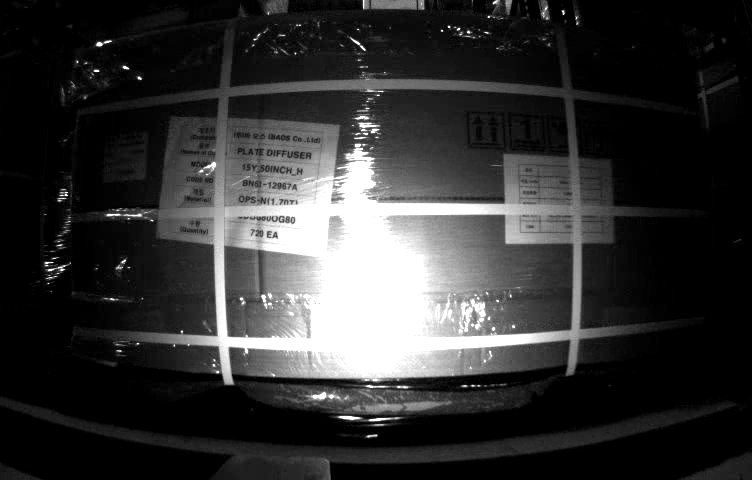True Barcode: (103, 134, 146, 180)
